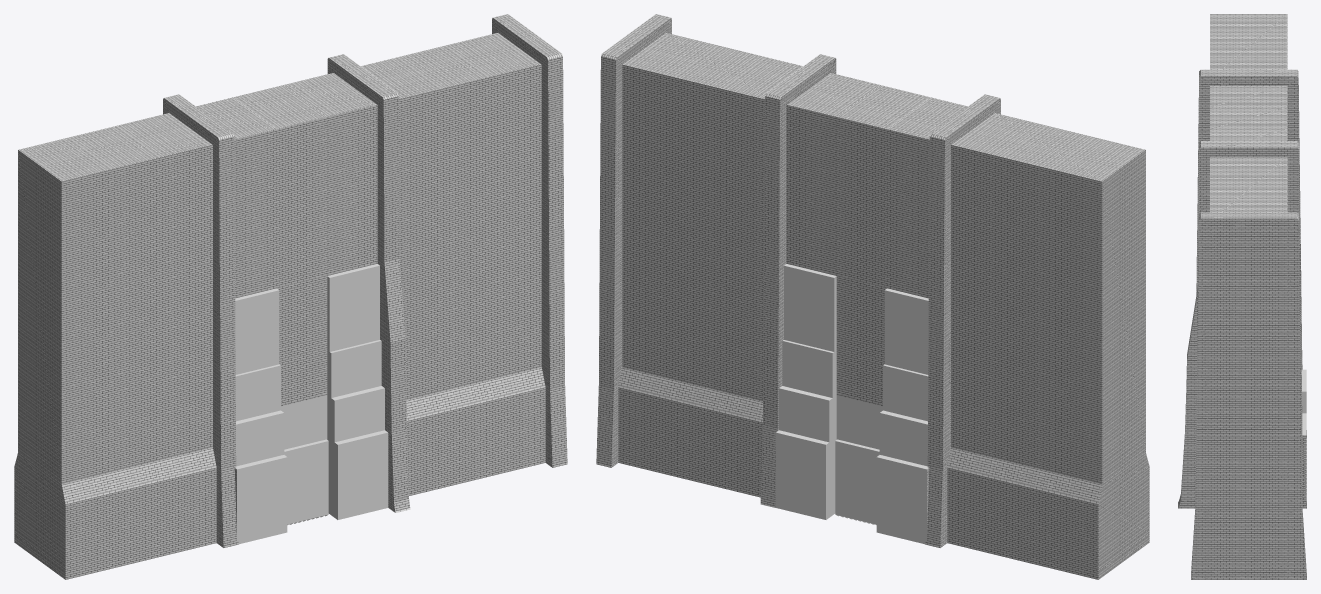
Rendered from gate.fbx.
3 renders of one model, left to right at view 1: azimuth 30°, elevation 25°; view 2: azimuth 150°, elevation 25°; view 3: azimuth 270°, elevation 25°, orthographic. The views are drawn at different scales.
Visible parts, largest first — view 1: Cube.003, Cube.001, Cube.002, Gate; view 2: Cube.003, Cube.002, Cube.001, Gate.001; view 3: Cube.002, Cube.001, Cube.003.
Part boxes in pixels (x1,y1,x2,y2): Cube.003: (14,94,238,579); Cube.001: (196,54,410,544); Cube.002: (361,14,567,495); Gate: (284,439,328,524); Cube.003: (925,94,1149,579); Cube.002: (596,14,802,497); Cube.001: (760,54,967,544); Gate.001: (835,439,879,524); Cube.002: (1191,157,1306,579); Cube.001: (1178,86,1306,508); Cube.003: (1196,14,1306,436).
Bounding box in the file's own units: 6552 × 5161 × 1663.
